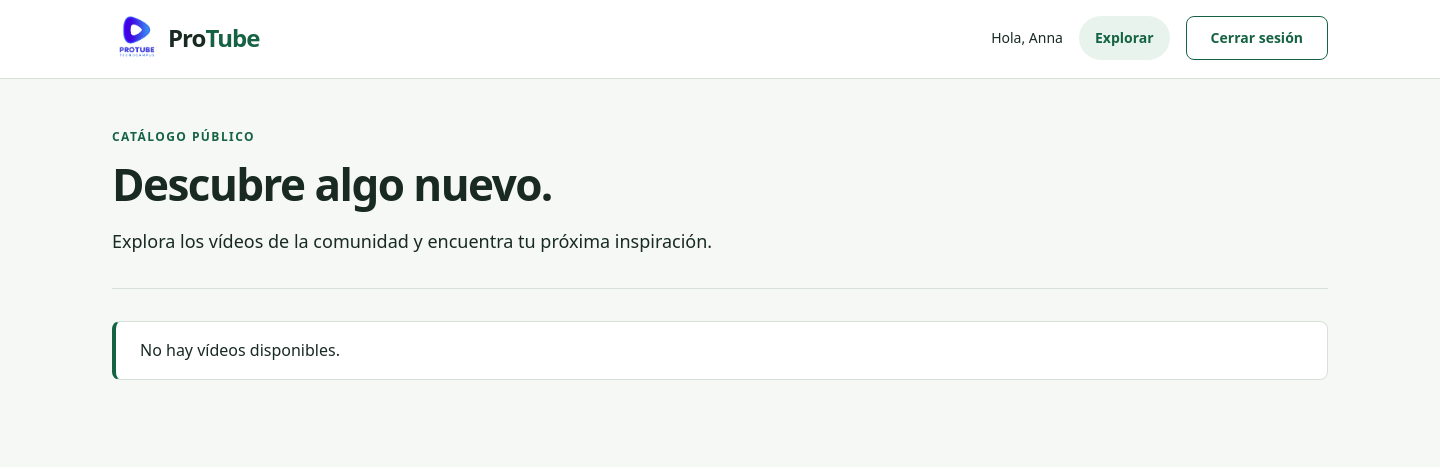
it: restores session, handles logout error and retries
The image size is (1440, 467).
Expected: the text "Hola, Anna" is shown, [991,27,1063,49]
Click the button "Cerrar sesión": {"x": 1257, "y": 38} [1186,16,1328,60]
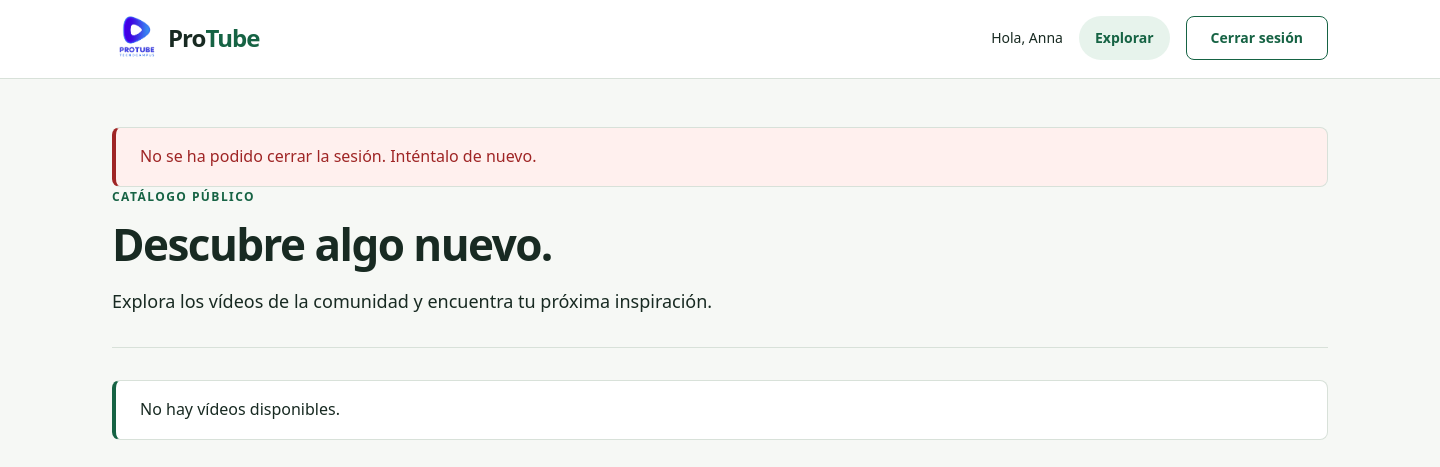
Expected: the message shows "No se ha podido cerrar", [140,145,536,167]
Click the button "Cerrar sesión": {"x": 1257, "y": 38} [1186,16,1328,60]
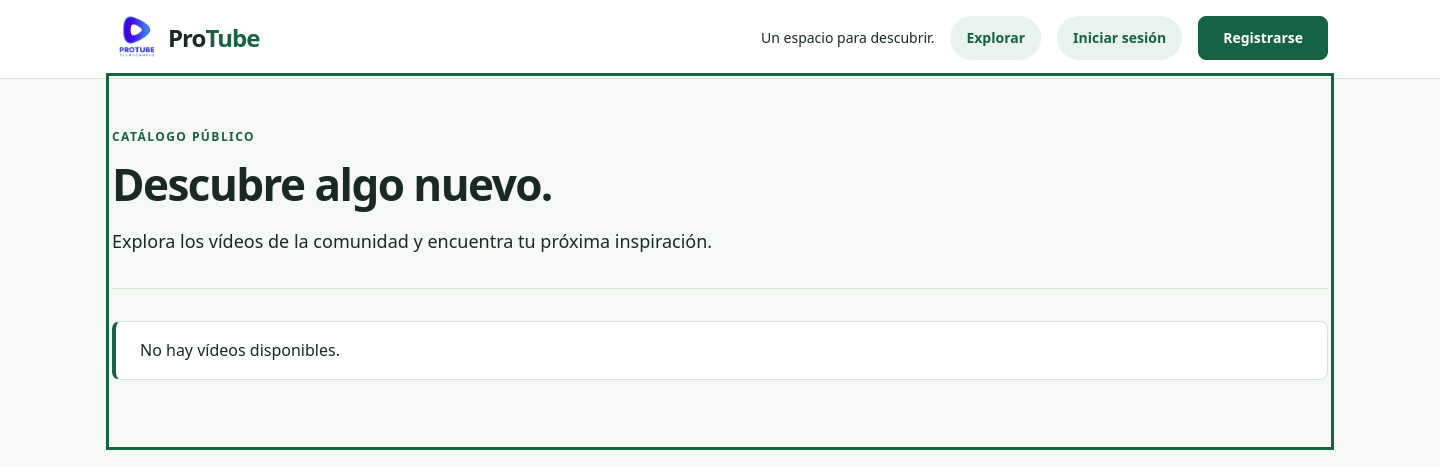
Expected: the link "Iniciar sesión" is shown, [1057,16,1182,60]
